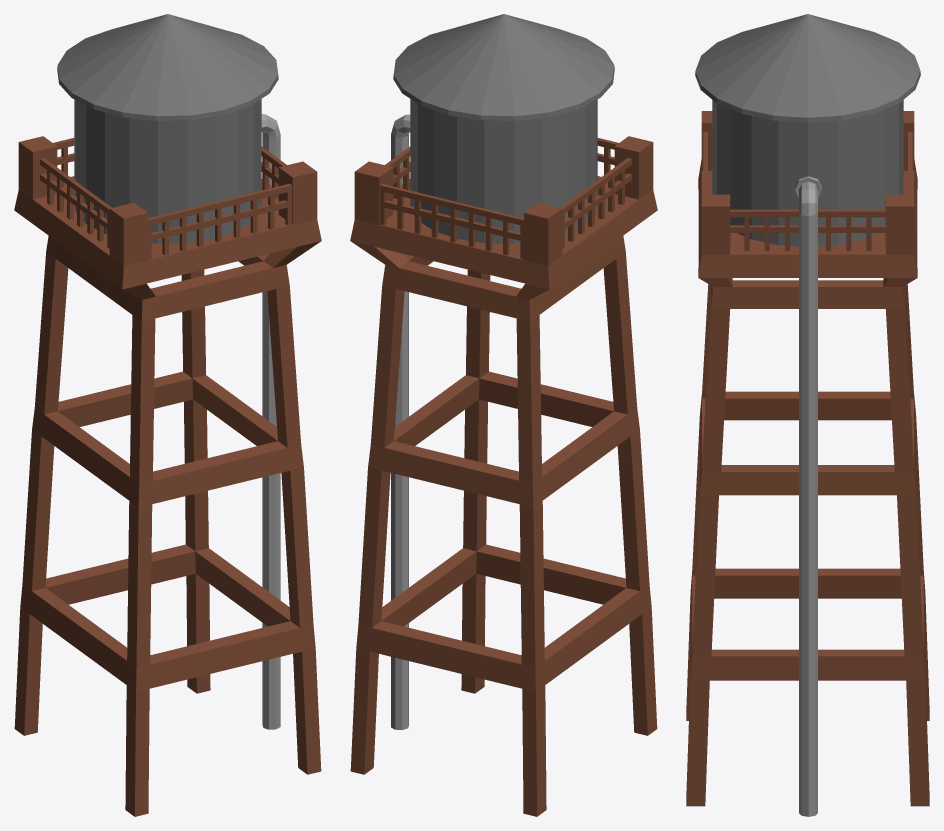
The model's file is water-tower.lod.glb.
The picture shows the model from 3 angles, left to right: view 1: azimuth 30°, elevation 25°; view 2: azimuth 150°, elevation 25°; view 3: azimuth 270°, elevation 25°; orthographic projection.
Parts seen in each view (by area): view 1: WaterTower_Cube.006; view 2: WaterTower_Cube.006; view 3: WaterTower_Cube.006.
Part boxes in pixels (x1,y1,x2,y2): WaterTower_Cube.006: [14, 14, 321, 816]; WaterTower_Cube.006: [350, 14, 657, 816]; WaterTower_Cube.006: [686, 14, 929, 816].
Size of the model in its own units: 2.53 by 8.43 by 2.49.
